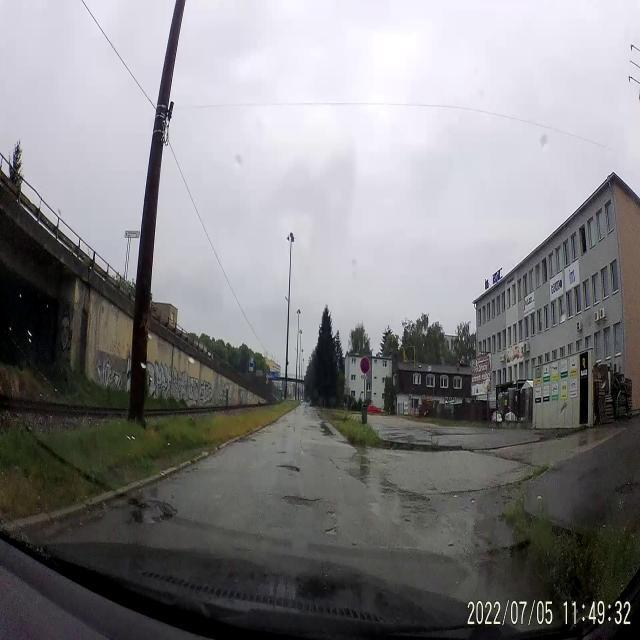Pothole: (127, 485, 182, 537), (283, 491, 330, 516), (274, 457, 304, 480)
